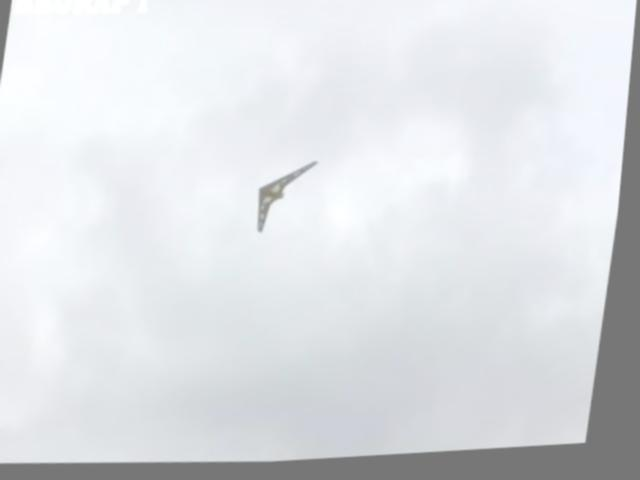flying wing: (254, 159, 324, 240)
